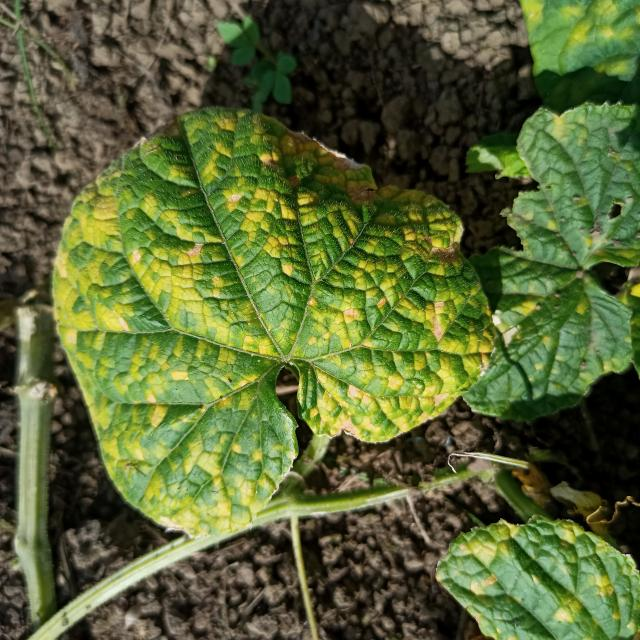disease_cucumber: (55, 121, 483, 534)
